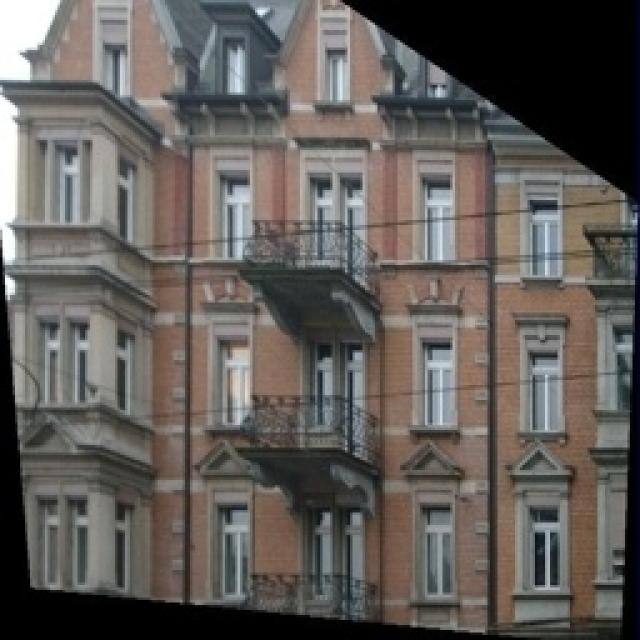building: (15, 0, 640, 635)
